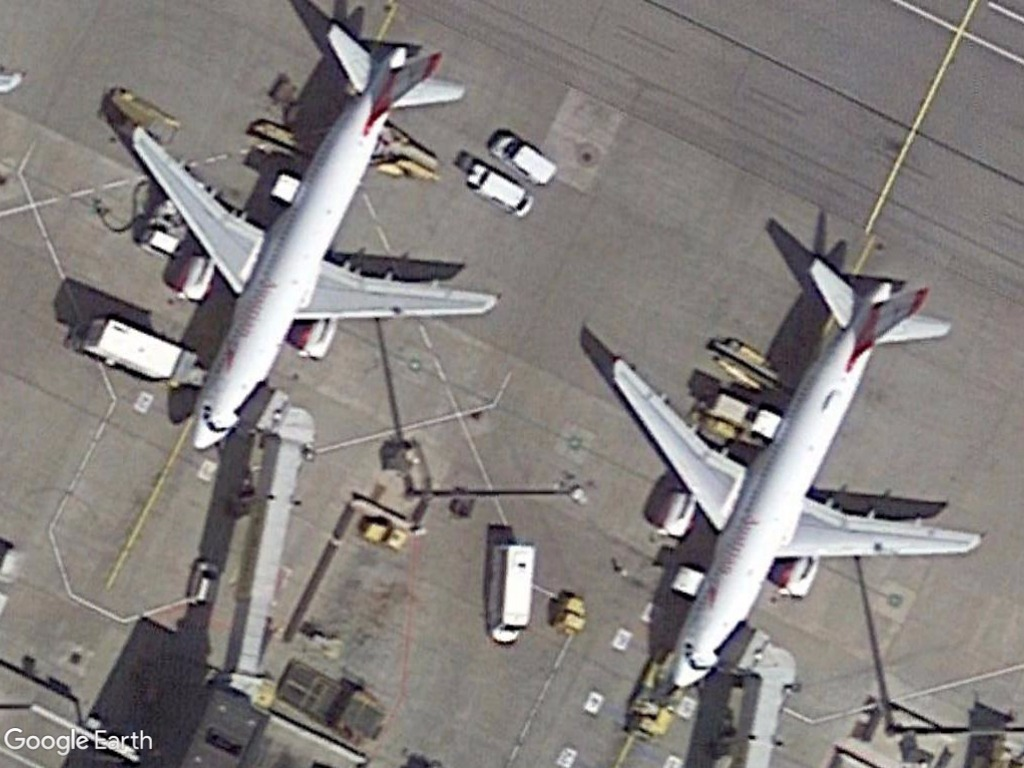airliner: (602, 250, 989, 694), (127, 15, 509, 454)
van: (485, 539, 543, 649), (490, 134, 558, 190), (476, 169, 539, 218)
